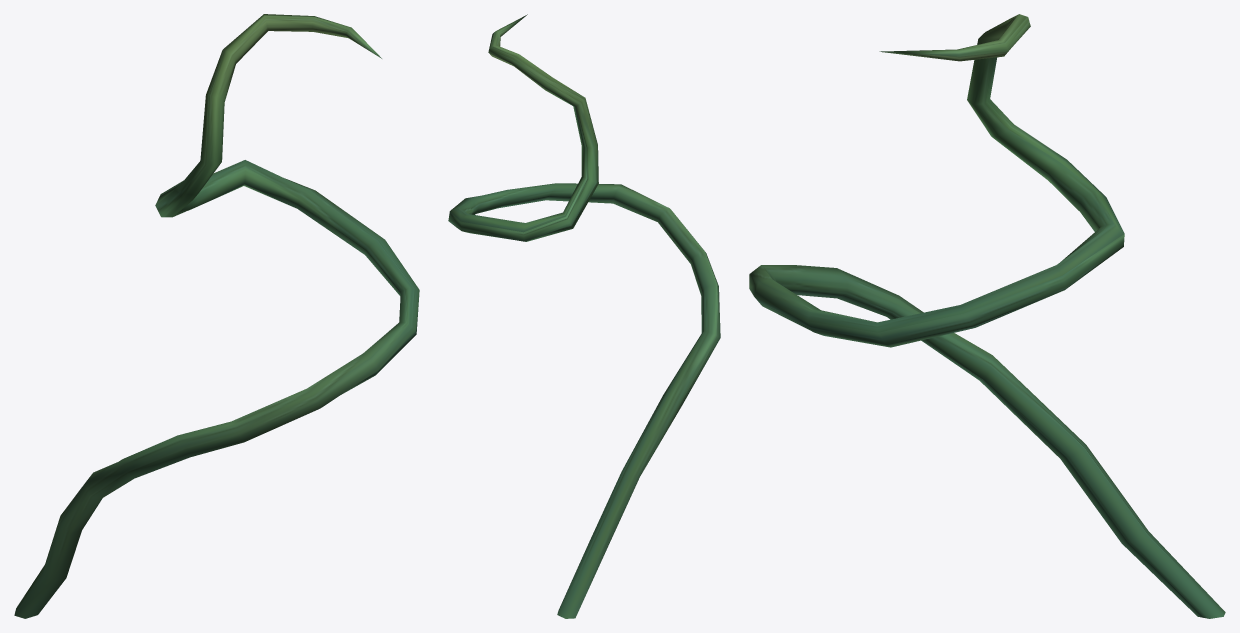
Rendered from Vines_D.fbx.
3 renders of one model, left to right at view 1: azimuth 30°, elevation 25°; view 2: azimuth 150°, elevation 25°; view 3: azimuth 270°, elevation 25°, orthographic. The views are drawn at different scales.
Visible parts, largest first — view 1: Vines_D; view 2: Vines_D; view 3: Vines_D.
Boxes of the visible parts, x1,y1,x2,y2 form: Vines_D: (14, 14, 419, 618); Vines_D: (448, 14, 720, 618); Vines_D: (749, 14, 1225, 618).
Size of the model in its own units: 0.4001 by 0.805 by 0.5096.
1 material, 1 textured.
